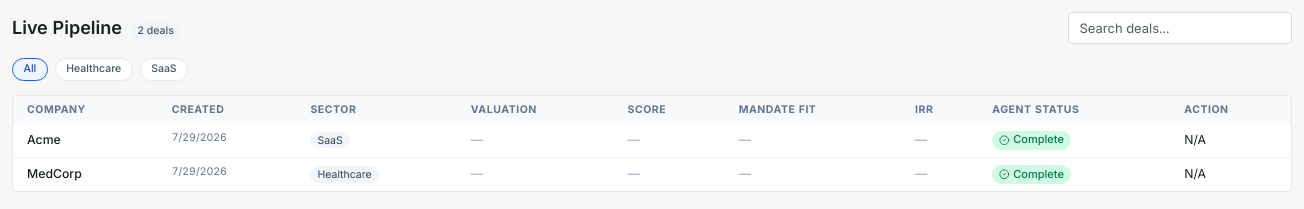
Scenario: LivePipelineTable › filters by sector pill click
Check: the link "Acme" is shown, box [27,130,61,148]
Check: the link "MedCorp" is shown, box [27,165,82,182]
Click the button "Healthcare" at (94, 69), box [55,58,133,80]
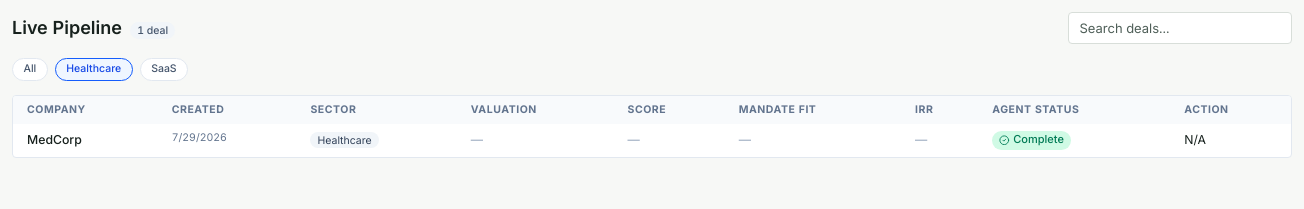
Check: the link "MedCorp" is shown, box [27,130,82,148]
Check: the link "Acme" is gone
